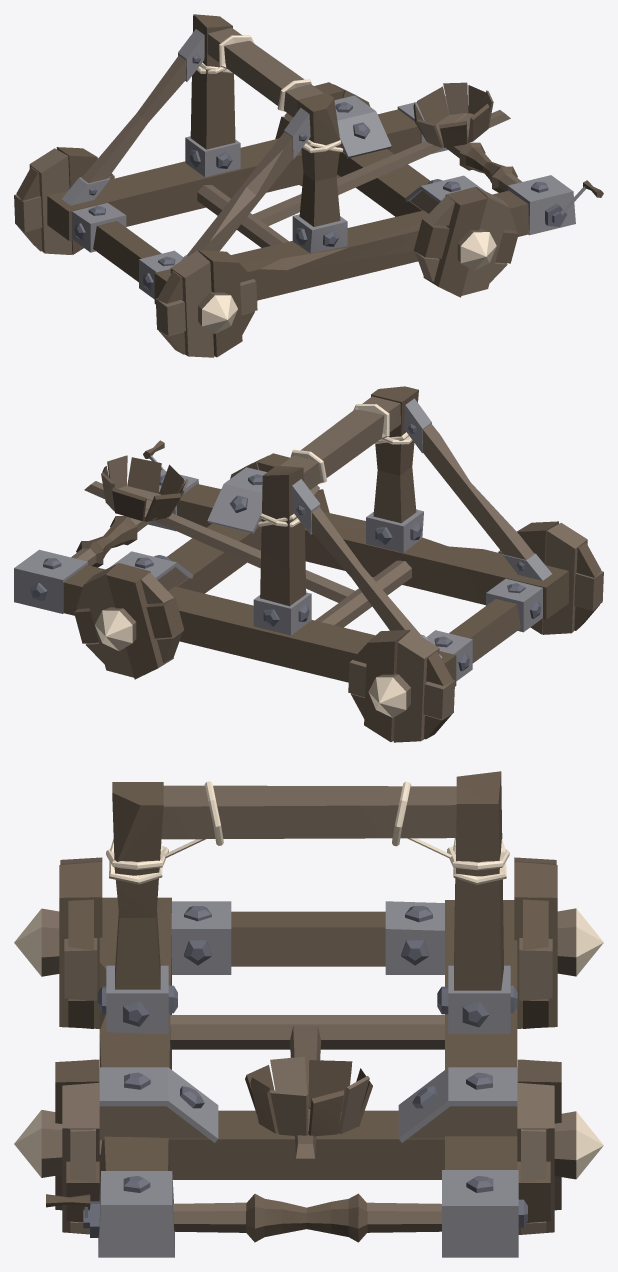
The model's file is _CATAPULT.fbx.
3 renders of one model, top to bottom at view 1: azimuth 30°, elevation 25°; view 2: azimuth 150°, elevation 25°; view 3: azimuth 270°, elevation 25°, orthographic. The views are drawn at different scales.
Visible parts, largest first — view 1: CATAPULT_MAIN; view 2: CATAPULT_MAIN; view 3: CATAPULT_MAIN.
Boxes of the visible parts, box(x1,y1,x2,y2) form: CATAPULT_MAIN: box(14, 14, 603, 357); CATAPULT_MAIN: box(14, 386, 603, 742); CATAPULT_MAIN: box(14, 771, 603, 1257).
Size of the model in its own units: 473 by 225 by 351.
